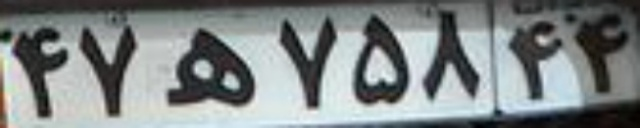4: (8, 26, 69, 116), (508, 19, 565, 101), (573, 11, 629, 94)
5: (350, 11, 408, 103)
7: (77, 23, 141, 117), (281, 15, 332, 109)
8: (421, 9, 483, 101)
he: (157, 26, 262, 108)
